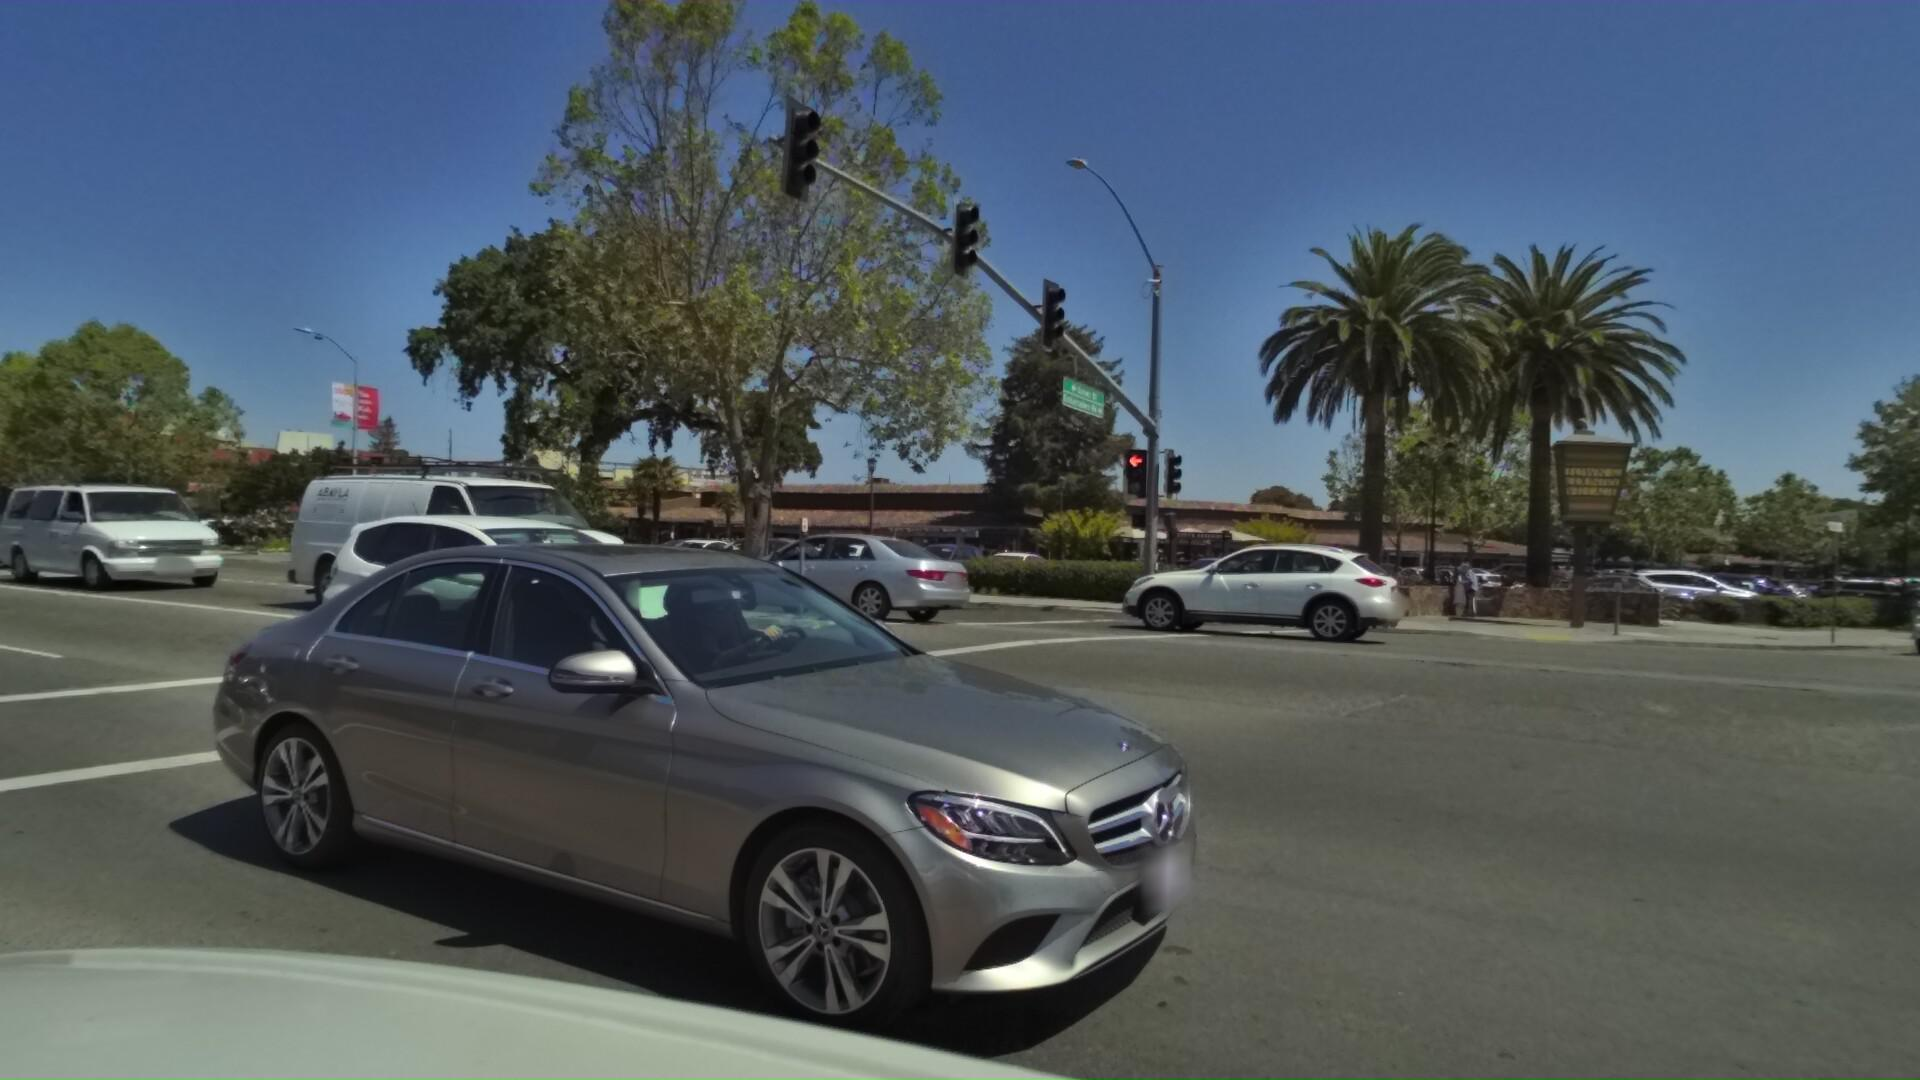car: (141, 508, 1290, 1080), (273, 500, 744, 713), (1058, 531, 1353, 644), (653, 520, 939, 622), (1527, 566, 1685, 622), (1592, 562, 1749, 616), (1644, 566, 1799, 617), (1788, 571, 1920, 615), (1855, 585, 1920, 666), (952, 545, 1048, 592), (637, 534, 749, 574), (886, 541, 984, 585)
other_vehicle: (260, 444, 626, 636)
